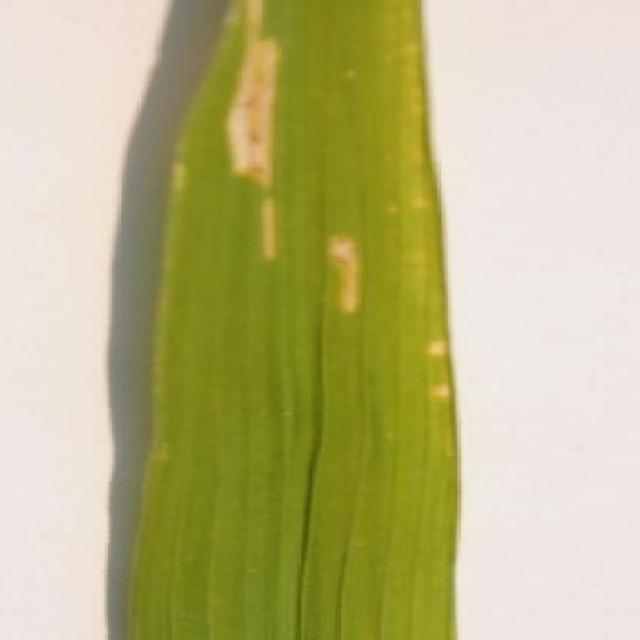Brown_Spot: (122, 0, 463, 640)
